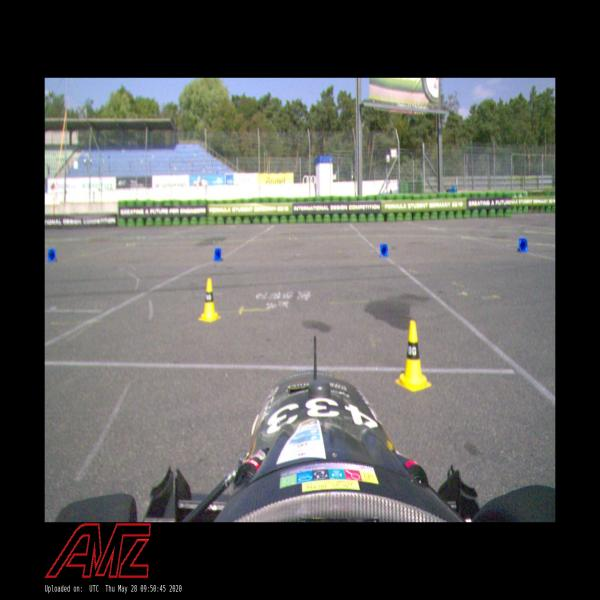blue_cone: (214, 248, 224, 262), (518, 238, 528, 252), (380, 243, 389, 258)
yellow_cone: (395, 320, 432, 392), (198, 278, 221, 322)
